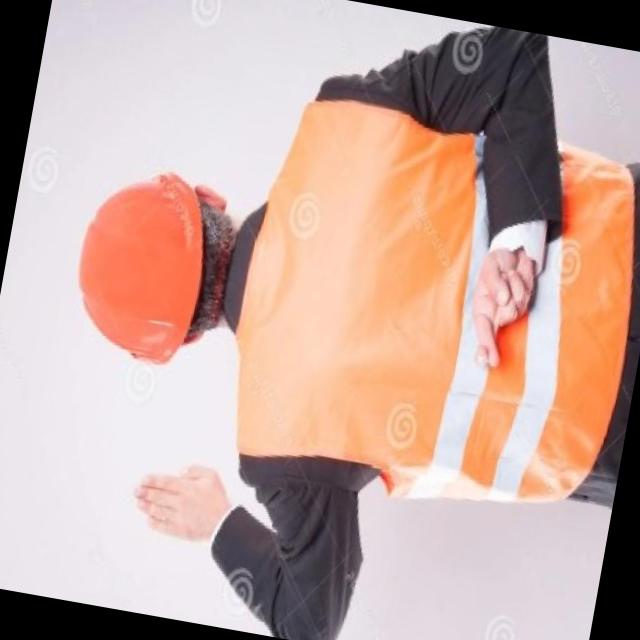not-gloved: (112, 414, 246, 560), (456, 238, 542, 376)
